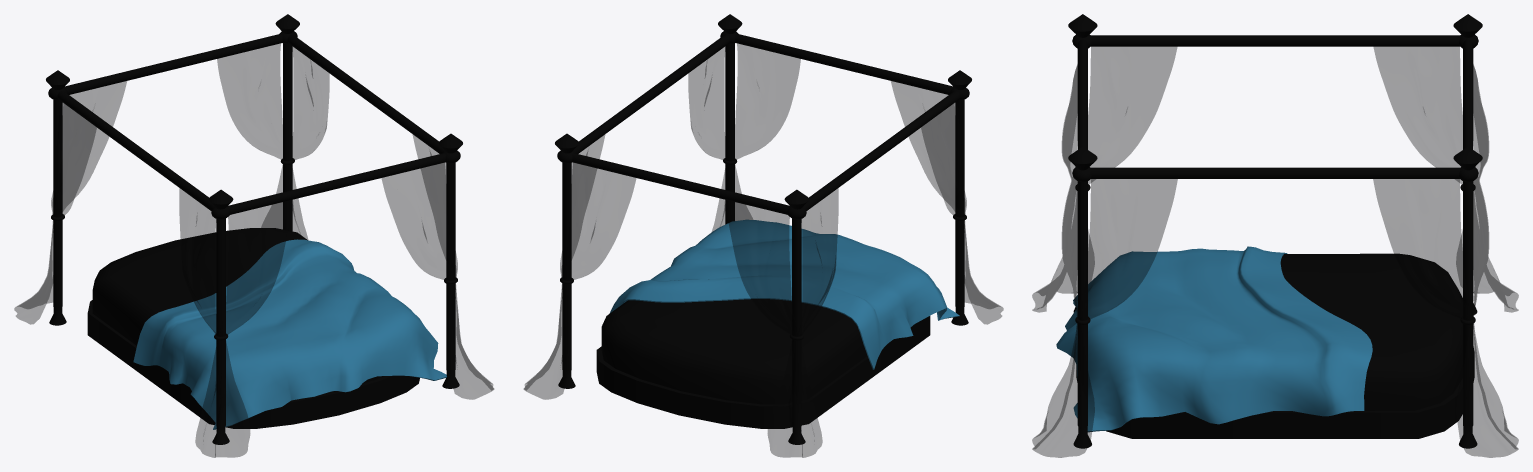
File: (Prop)Aishas-Bed.fbx
3 renders of one model, left to right at view 1: azimuth 30°, elevation 25°; view 2: azimuth 150°, elevation 25°; view 3: azimuth 270°, elevation 25°, orthographic. The views are drawn at different scales.
Parts seen in each view (by area): view 1: Bed; view 2: Bed; view 3: Bed.
Boxes of the visible parts, x1,y1,x2,y2 form: Bed: [14, 14, 494, 457]; Bed: [523, 14, 1003, 457]; Bed: [1032, 14, 1518, 457].
Size of the model in its own units: 288 by 240 by 356.
